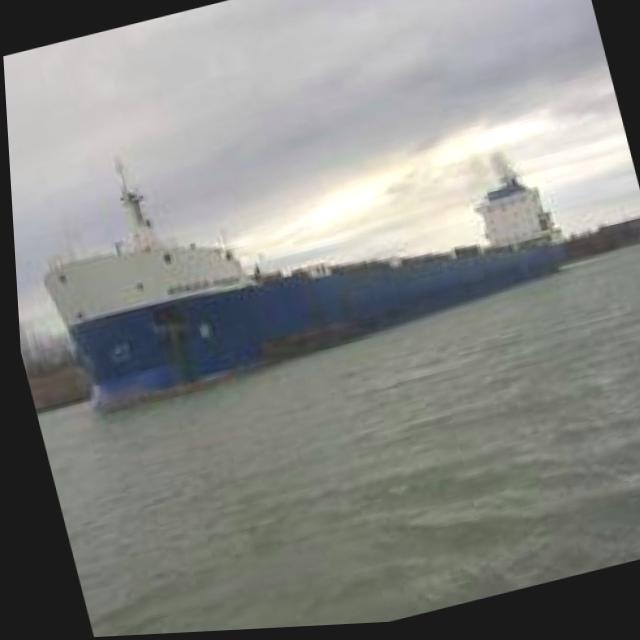ship2: (40, 155, 574, 398)
